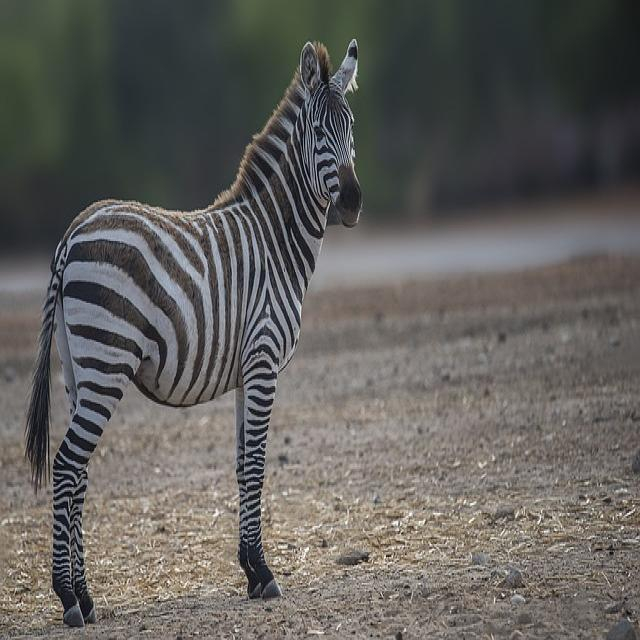Herbivorous: (24, 39, 364, 630)
